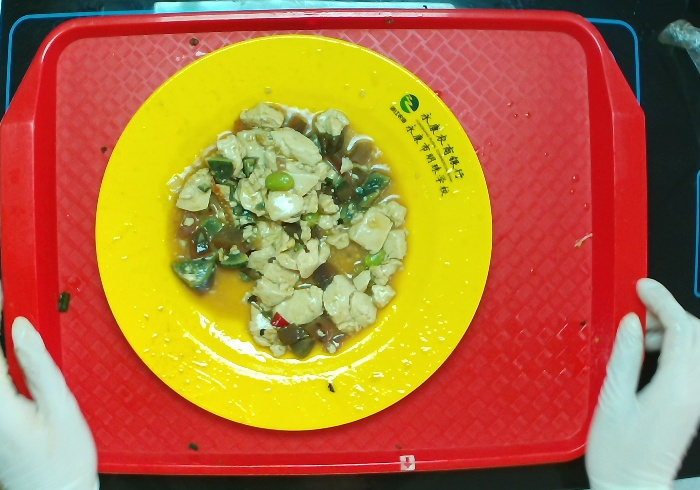YKMZ-Huang_Se_Mian_Pan: (88, 31, 496, 439)
